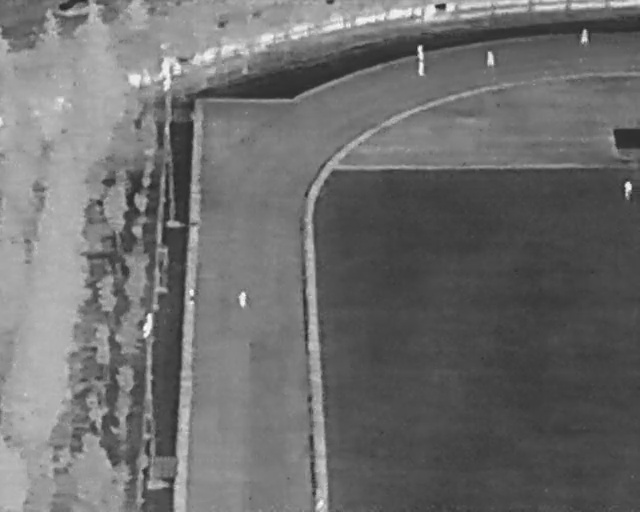Person: (314, 489, 327, 511), (623, 178, 633, 200), (416, 42, 425, 63), (238, 288, 247, 308), (417, 58, 426, 77), (580, 28, 590, 44), (486, 50, 495, 67), (188, 287, 196, 305)
